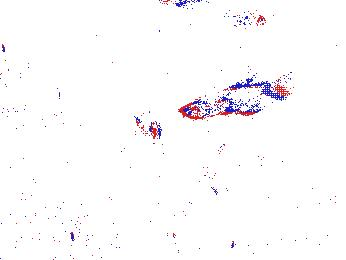X-ray fish: (183, 144, 261, 192), (126, 109, 165, 146)
red belly glassfish: (220, 6, 267, 28), (174, 12, 200, 38)
redtail glassfish: (178, 74, 290, 120)
